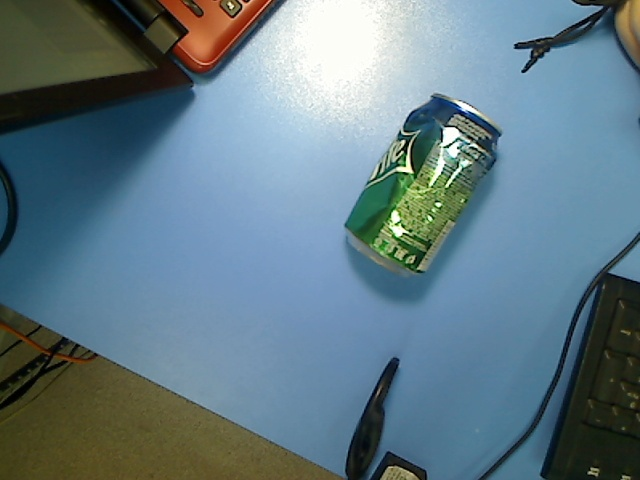can: (341, 92, 502, 280)
